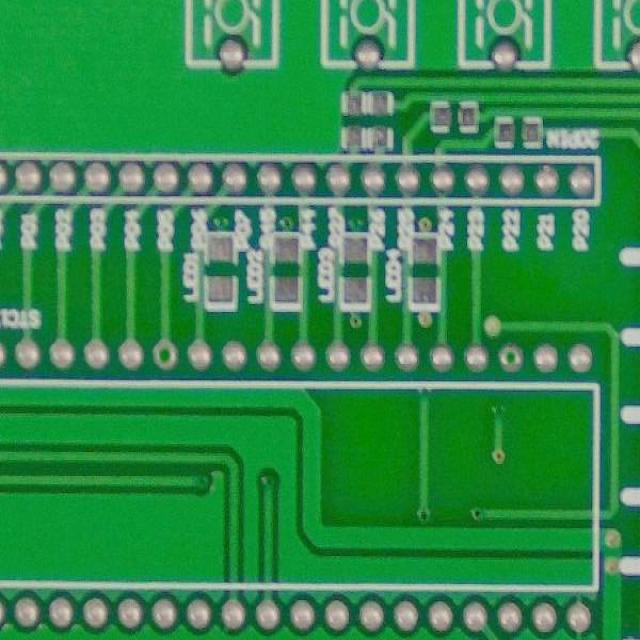missing hole: (495, 336, 529, 376), (148, 333, 182, 372)
